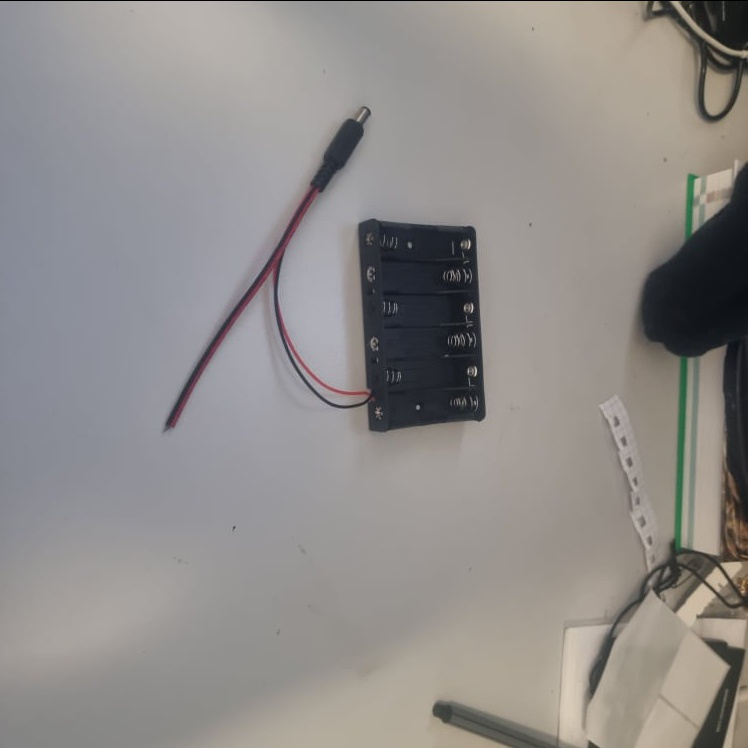BATTERY BOX: (357, 216, 487, 432)
